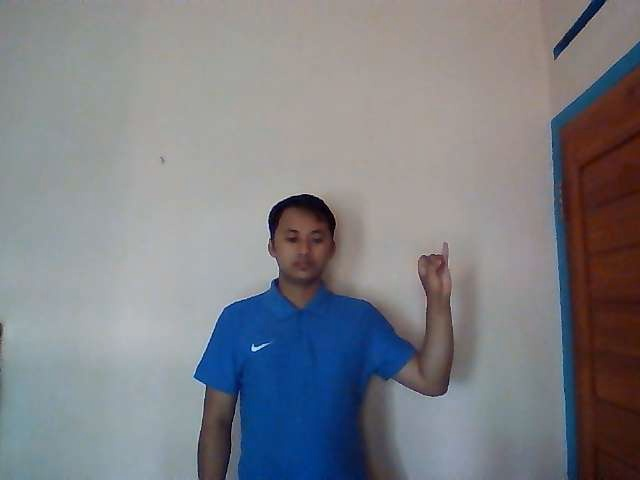I: (418, 241, 453, 297)
